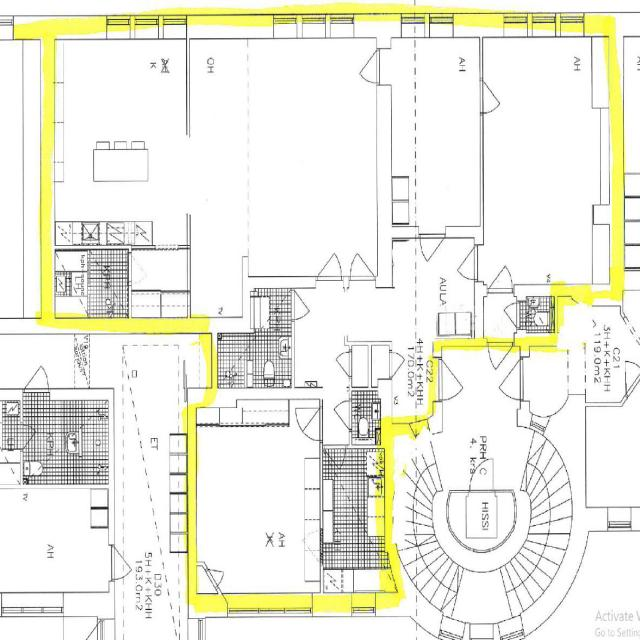door: (433, 360, 472, 400), (487, 338, 513, 381), (353, 50, 382, 82), (450, 247, 477, 280), (317, 243, 341, 280), (350, 243, 374, 280), (488, 255, 512, 292), (296, 408, 323, 440), (479, 81, 506, 113), (420, 234, 444, 270), (206, 556, 230, 587), (291, 290, 316, 318), (324, 445, 345, 478), (328, 401, 352, 429), (499, 303, 520, 327), (331, 351, 351, 376), (389, 353, 409, 377)
